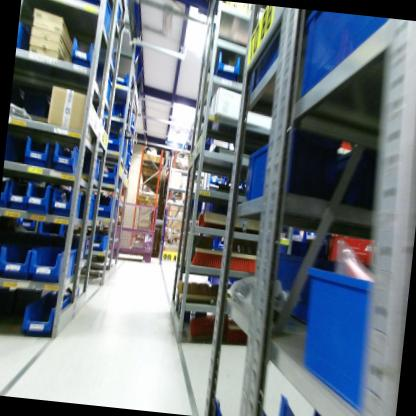pallet: (138, 163, 163, 181)
stillage: (103, 192, 162, 263)
